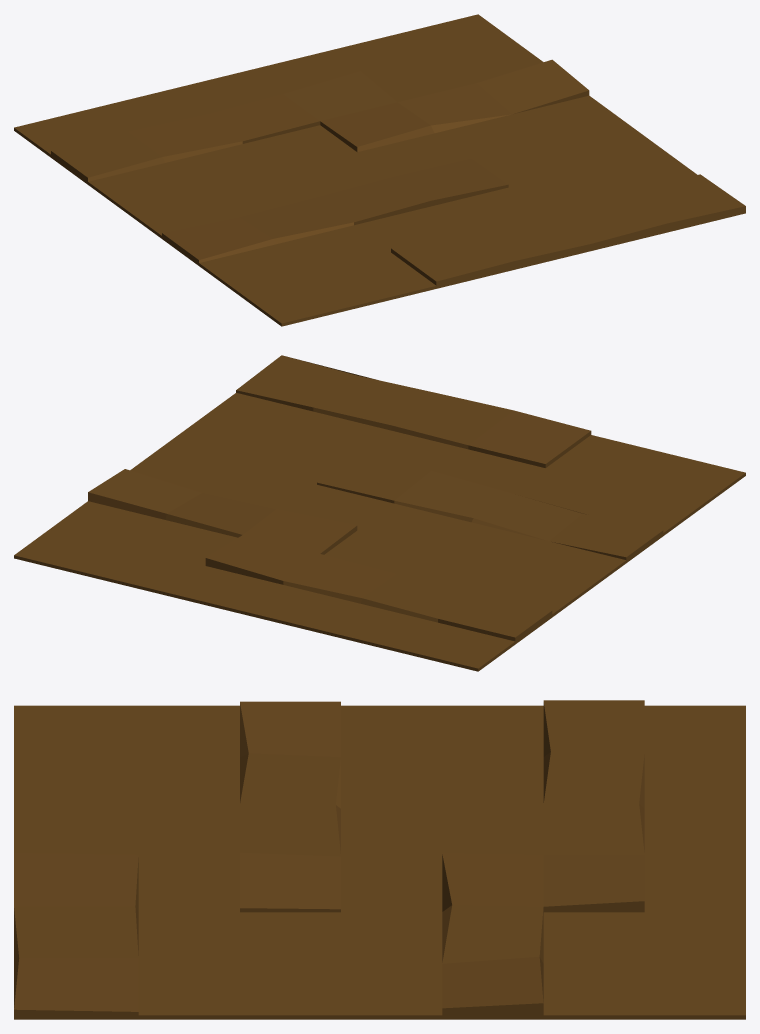
File: maze_only_floor.fbx
3 renders of one model, top to bottom at view 1: azimuth 30°, elevation 25°; view 2: azimuth 150°, elevation 25°; view 3: azimuth 270°, elevation 25°, orthographic. The views are drawn at different scales.
Parts seen in each view (by area): view 1: Floor; view 2: Floor; view 3: Floor.
Boxes of the visible parts, left/top/right/bottom form: Floor: left=14, top=14, right=745, bottom=326; Floor: left=14, top=355, right=745, bottom=671; Floor: left=14, top=700, right=745, bottom=1019.
Size of the model in its own units: 1550 by 38.45 by 1548.
